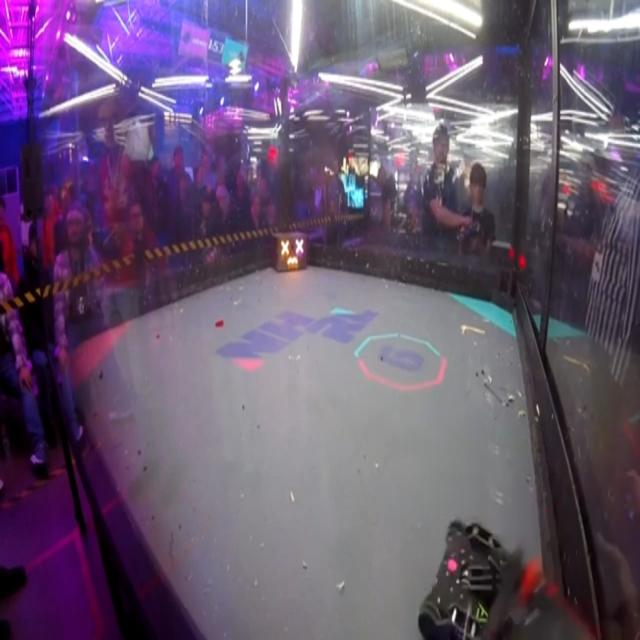brick: (268, 227, 310, 276)
